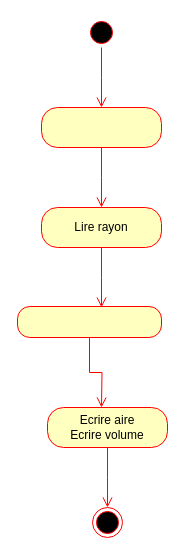
Some shapes in this 185 by 555 pixel diagram are drawn without their labels. The shapes that lost their labels are listed below. From the top down, each one's centre as x and y in pixels, then its label:
At point (101, 127): "Saisir le rayon".
At point (89, 322): "aire = Pi * rayon2 volume = 4/3 * Pi x rayon3".
